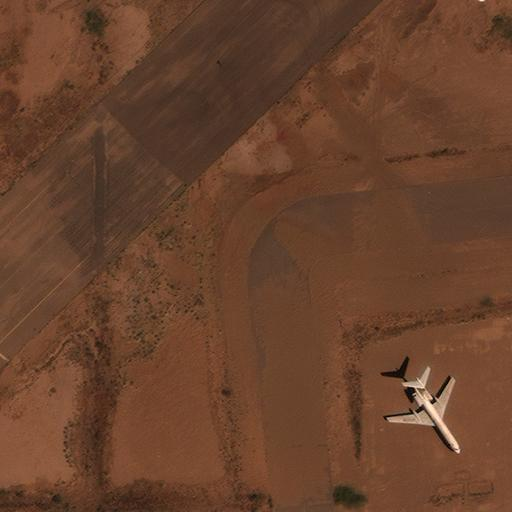Medium Civil Transport: (388, 377, 459, 453)
